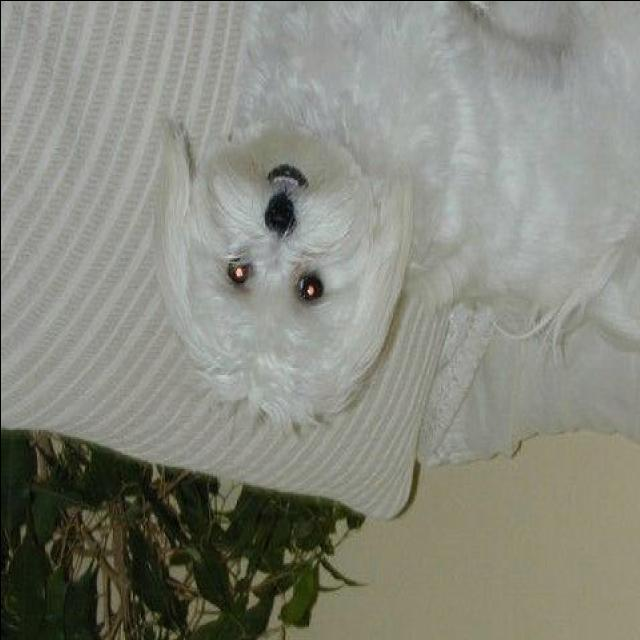maltese_dog: (144, 2, 638, 447)
